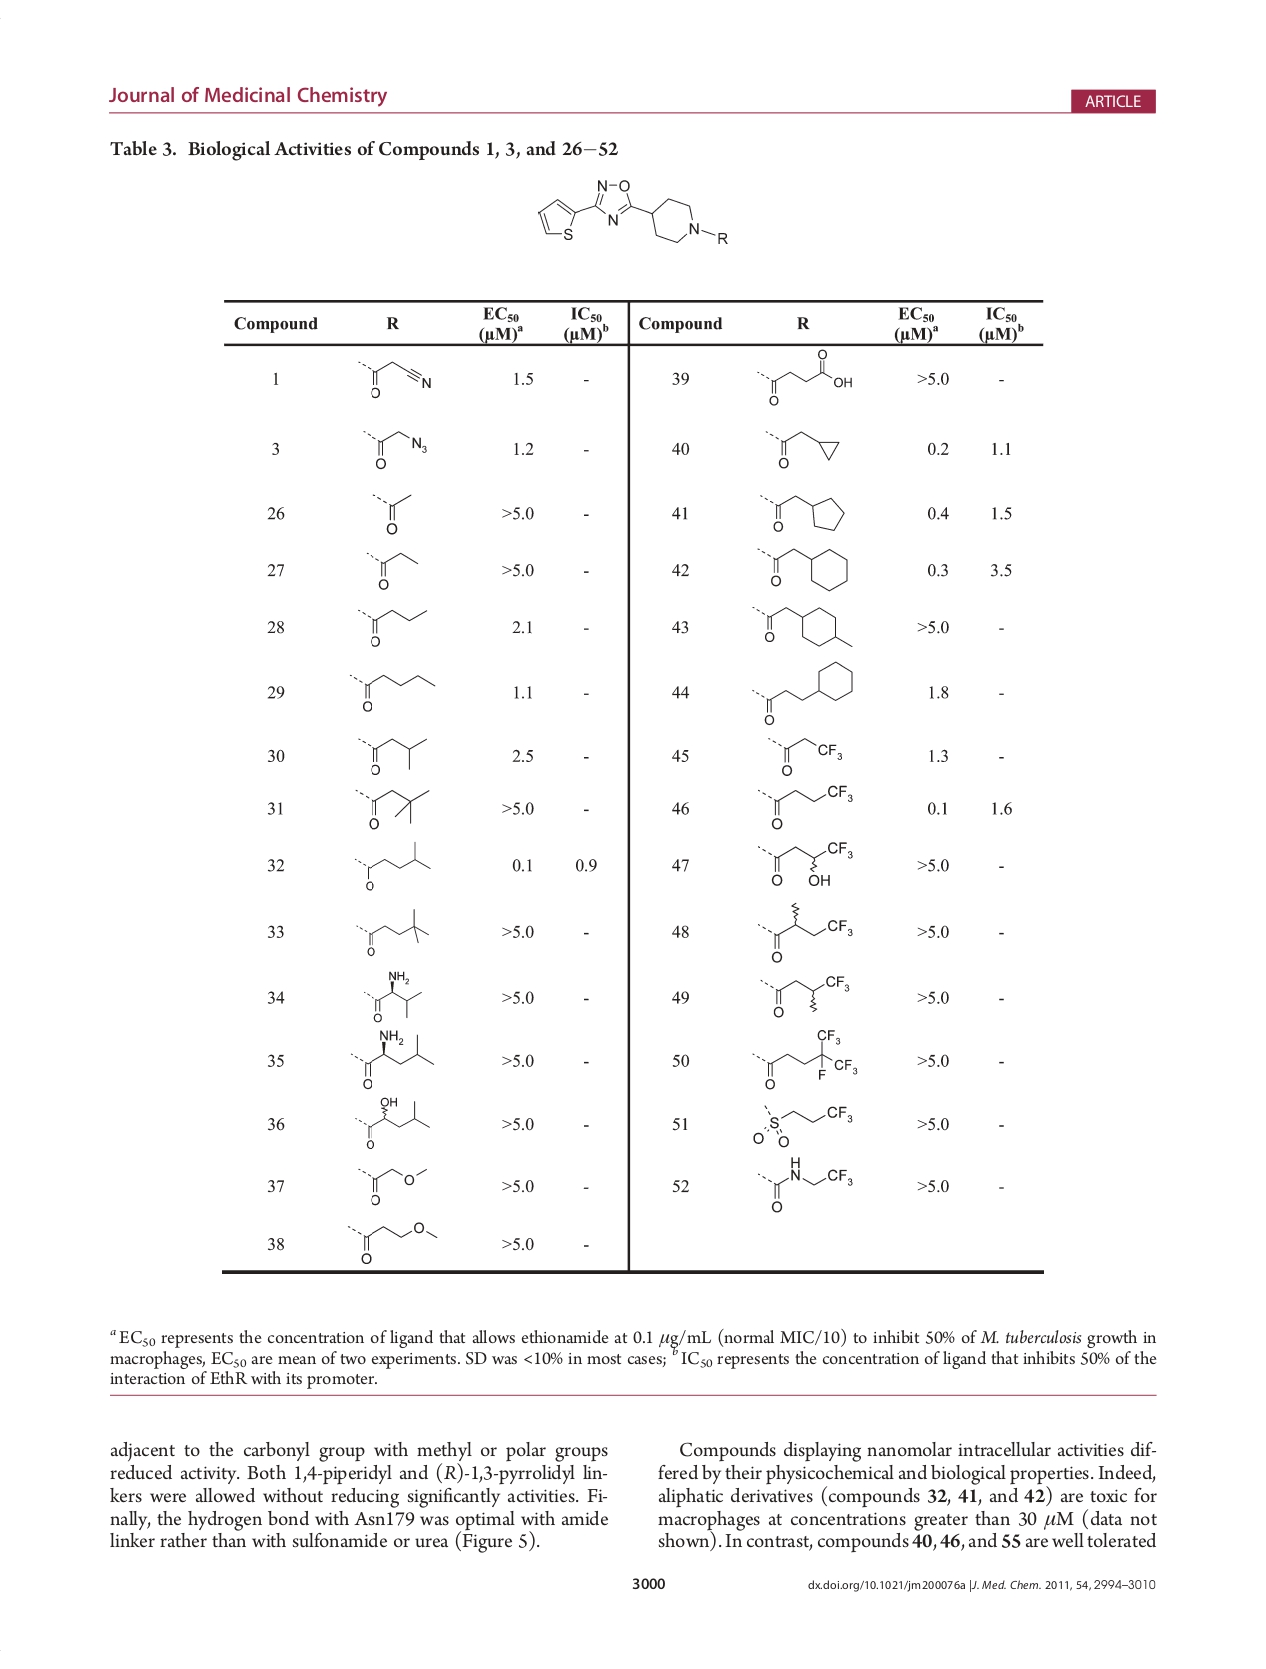exist_molecular: (533, 174, 733, 253), (747, 1025, 860, 1094), (749, 660, 856, 727), (753, 1153, 856, 1217), (753, 347, 855, 410), (755, 900, 852, 964), (749, 601, 858, 653), (745, 1098, 854, 1150), (348, 1028, 435, 1093), (753, 836, 855, 891), (753, 781, 854, 831), (754, 543, 852, 594), (340, 666, 438, 717), (347, 1094, 431, 1153), (342, 1218, 439, 1267), (755, 485, 846, 537), (757, 969, 851, 1017), (352, 838, 432, 894), (348, 907, 431, 958), (359, 965, 423, 1028), (356, 354, 435, 404), (351, 785, 431, 834), (765, 731, 843, 781), (352, 602, 430, 652), (763, 426, 842, 472), (352, 734, 430, 779), (352, 1162, 430, 1208), (360, 426, 430, 471), (358, 549, 422, 592), (366, 488, 414, 540)
